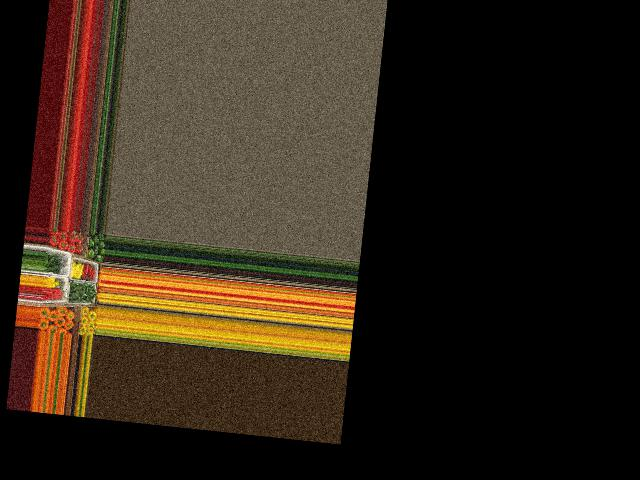bell_pepper: (86, 237, 97, 248)
